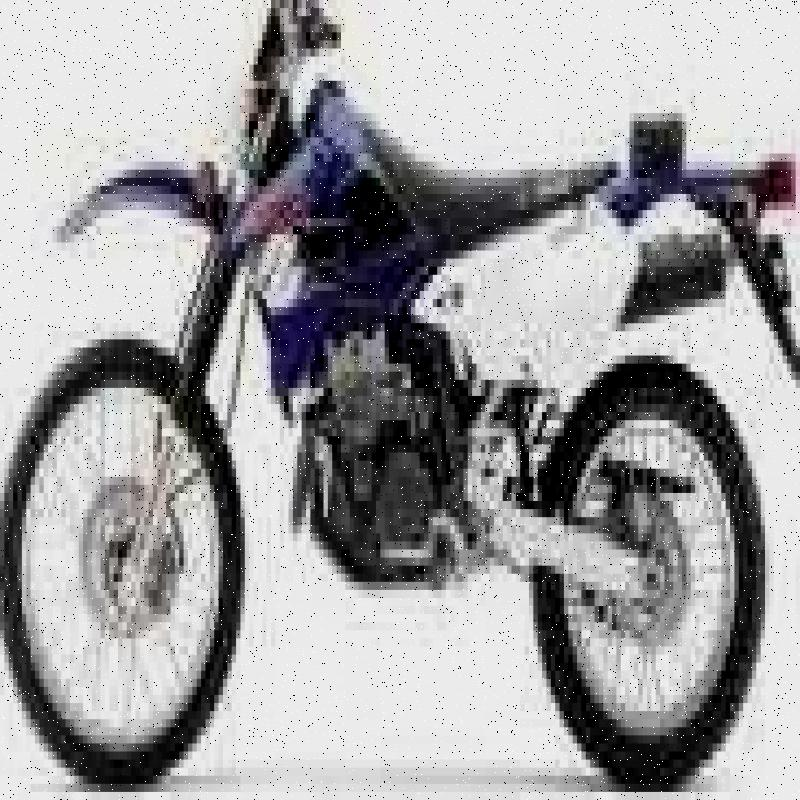bike: (0, 16, 797, 783)
